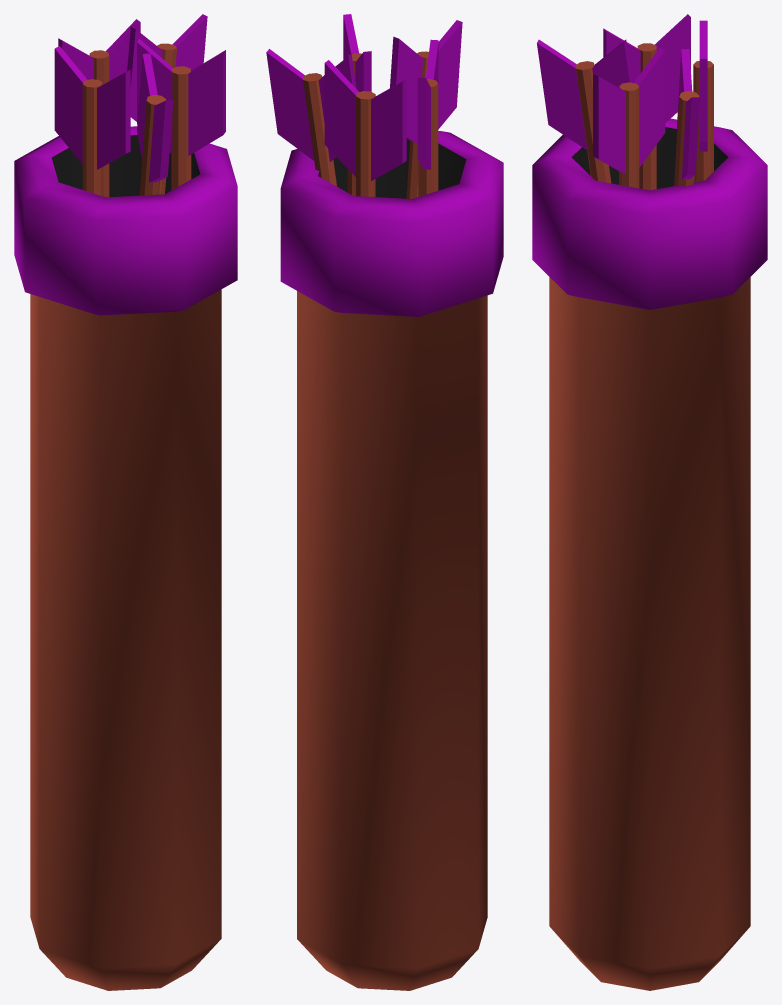
File: PickupArrowLightning.dae
3 renders of one model, left to right at view 1: azimuth 30°, elevation 25°; view 2: azimuth 150°, elevation 25°; view 3: azimuth 270°, elevation 25°, orthographic.
Parts seen in each view (by area): view 1: ArrowsPickupLightning; view 2: ArrowsPickupLightning; view 3: ArrowsPickupLightning.
Boxes of the visible parts, box(x1,y1,x2,y2) form: ArrowsPickupLightning: box(14, 14, 237, 990); ArrowsPickupLightning: box(266, 14, 503, 990); ArrowsPickupLightning: box(532, 14, 767, 990).
Size of the model in its own units: 0.2351 by 0.2336 by 1.01.
